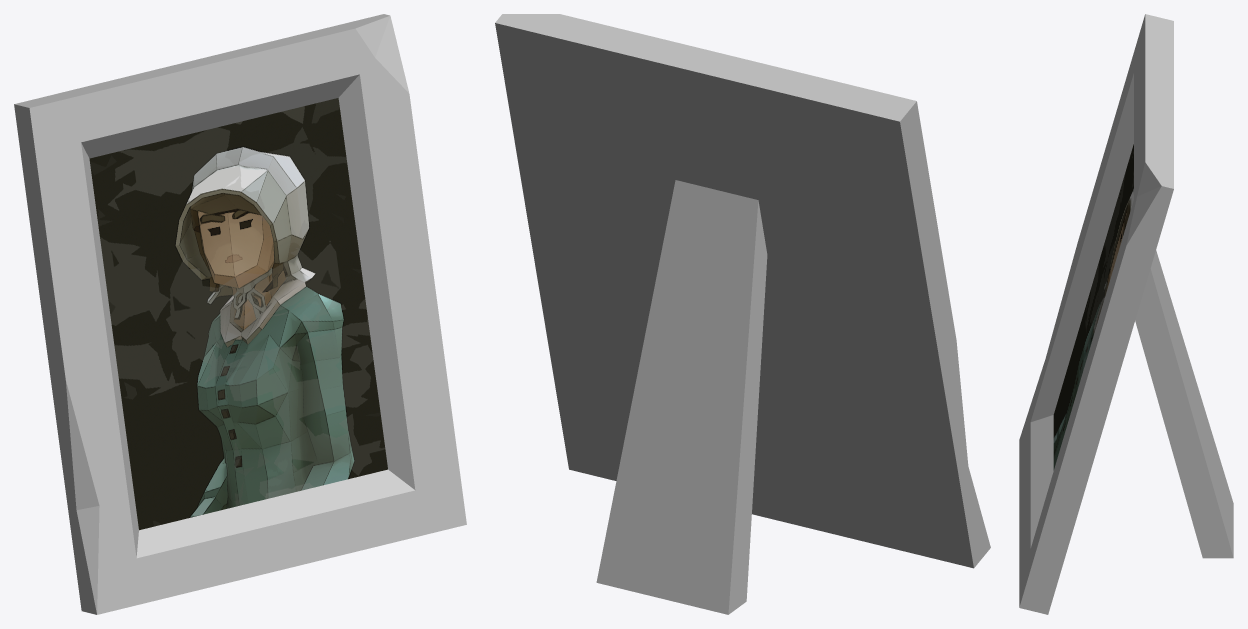
File: SM_Prop_Picture_Frame_02.fbx
The picture shows the model from 3 angles, left to right: view 1: azimuth 30°, elevation 25°; view 2: azimuth 150°, elevation 25°; view 3: azimuth 270°, elevation 25°; orthographic projection. The views are drawn at different scales.
Visible parts, largest first — view 1: SM_Prop_Picture_Frame_02; view 2: SM_Prop_Picture_Frame_02; view 3: SM_Prop_Picture_Frame_02.
Boxes of the visible parts, x1,y1,x2,y2 form: SM_Prop_Picture_Frame_02: (14, 14, 466, 614); SM_Prop_Picture_Frame_02: (495, 14, 990, 614); SM_Prop_Picture_Frame_02: (1019, 14, 1233, 614).
Size of the model in its own units: 29.01 by 34.86 by 15.64.
